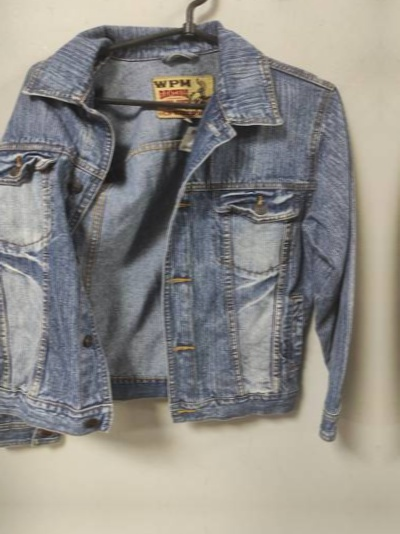Blazer: (0, 16, 375, 460), (385, 19, 400, 463)
